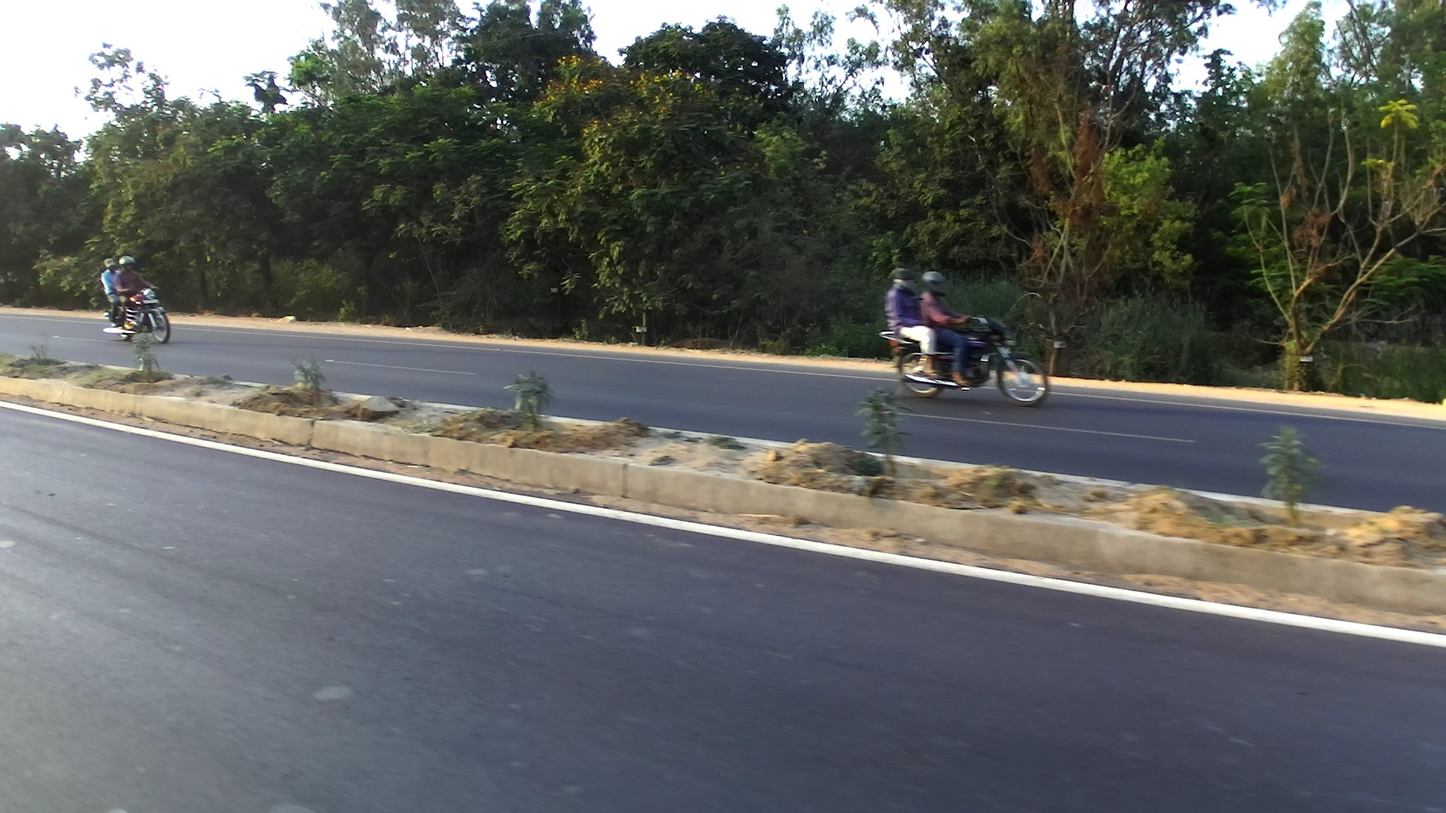motorcycle: (877, 309, 1049, 409), (102, 282, 171, 345)
rider: (916, 270, 986, 386), (885, 266, 944, 379), (112, 257, 164, 333), (100, 258, 126, 327)
